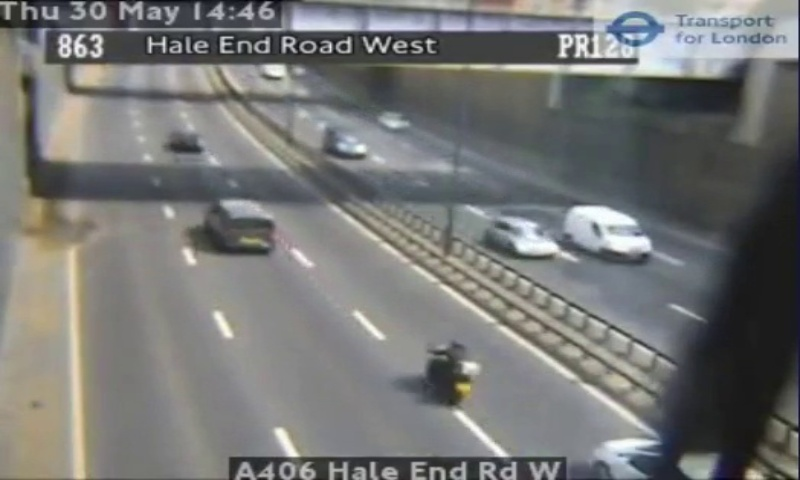motorcycle: (424, 338, 482, 406)
van: (209, 199, 276, 252)
